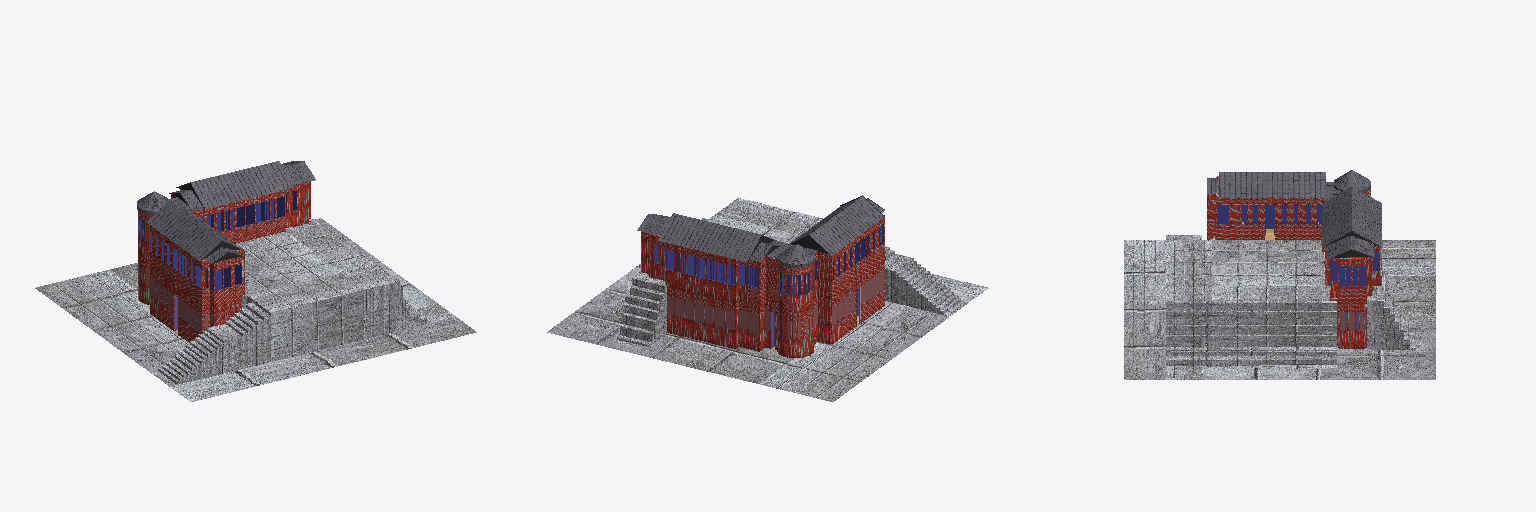
The picture shows the model from 3 angles: view 1: azimuth 30°, elevation 25°; view 2: azimuth 150°, elevation 25°; view 3: azimuth 270°, elevation 25°; orthographic projection.
Parts seen in each view (by area): view 1: Plane.003_Plane.005, Plane.001_Plane.002, Plane.002_Plane.001, Plane; view 2: Plane.003_Plane.005, Plane.001_Plane.002, Plane, Plane.002_Plane.001; view 3: Plane.003_Plane.005, Plane.002_Plane.001, Plane.001_Plane.002, Plane.
Boxes of the visible parts, x1=… form: Plane.003_Plane.005: x1=35, y1=218, x2=476, y2=401; Plane.001_Plane.002: x1=138, y1=182, x2=310, y2=307; Plane.002_Plane.001: x1=137, y1=161, x2=315, y2=263; Plane: x1=138, y1=222, x2=308, y2=342; Plane.003_Plane.005: x1=547, y1=198, x2=988, y2=401; Plane.001_Plane.002: x1=641, y1=206, x2=884, y2=312; Plane: x1=666, y1=261, x2=884, y2=357; Plane.002_Plane.001: x1=637, y1=195, x2=884, y2=267; Plane.003_Plane.005: x1=1124, y1=235, x2=1435, y2=379; Plane.002_Plane.001: x1=1207, y1=170, x2=1381, y2=258; Plane.001_Plane.002: x1=1207, y1=176, x2=1379, y2=303; Plane: x1=1207, y1=222, x2=1366, y2=348.
Size of the model in its own units: 16.3 by 5.94 by 15.4.
Materials: 10 (4 with a texture image).